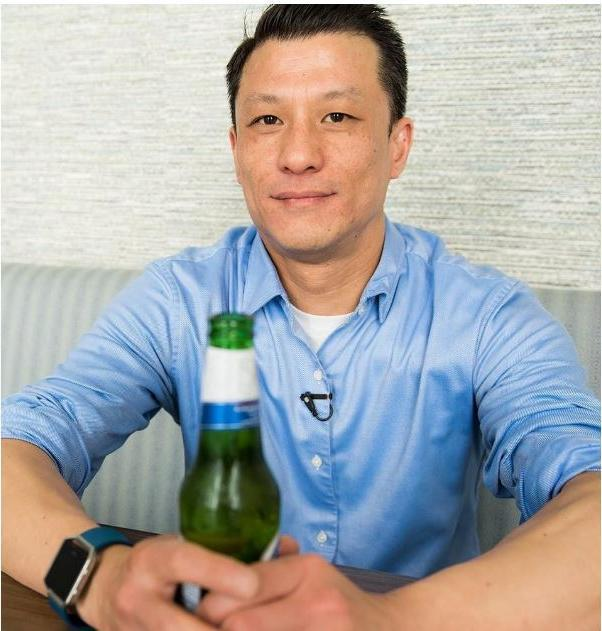Sober: (242, 40, 383, 251)
